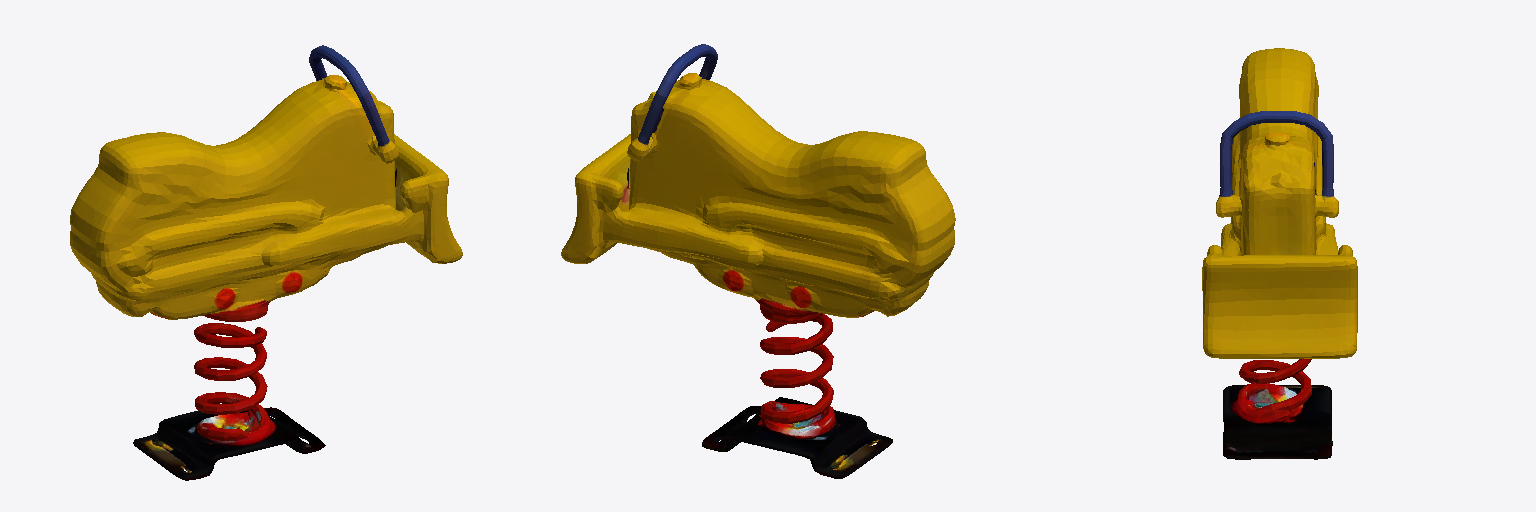
The picture shows the model from 3 angles: view 1: azimuth 30°, elevation 25°; view 2: azimuth 150°, elevation 25°; view 3: azimuth 270°, elevation 25°; orthographic projection.
Parts seen in each view (by area): view 1: tripo_node_cba938a1-9e42-4e15-85c6-ca4f1376a7c2; view 2: tripo_node_cba938a1-9e42-4e15-85c6-ca4f1376a7c2; view 3: tripo_node_cba938a1-9e42-4e15-85c6-ca4f1376a7c2.
Boxes of the visible parts, box(x1,y1,x2,y2) form: tripo_node_cba938a1-9e42-4e15-85c6-ca4f1376a7c2: box(70, 45, 462, 480); tripo_node_cba938a1-9e42-4e15-85c6-ca4f1376a7c2: box(561, 44, 955, 478); tripo_node_cba938a1-9e42-4e15-85c6-ca4f1376a7c2: box(1202, 48, 1357, 459).
Size of the model in its own units: 0.937 by 0.9433 by 0.3615.
1 materials, 1 textured.